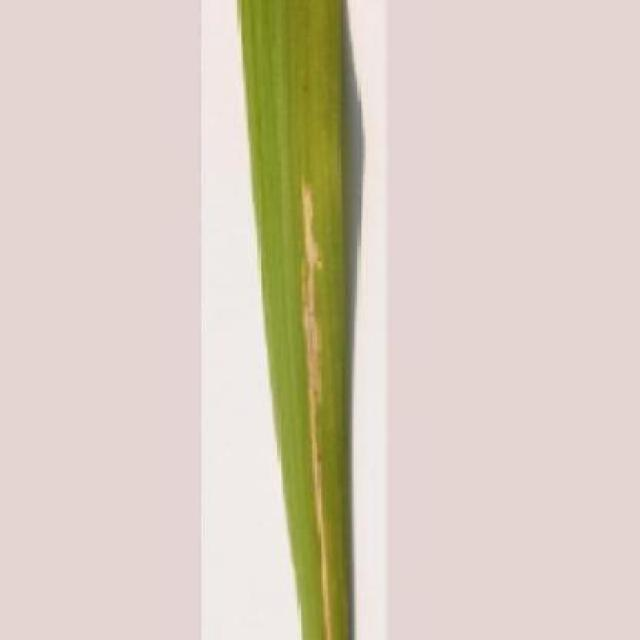Brown_Spot: (231, 0, 355, 640)
